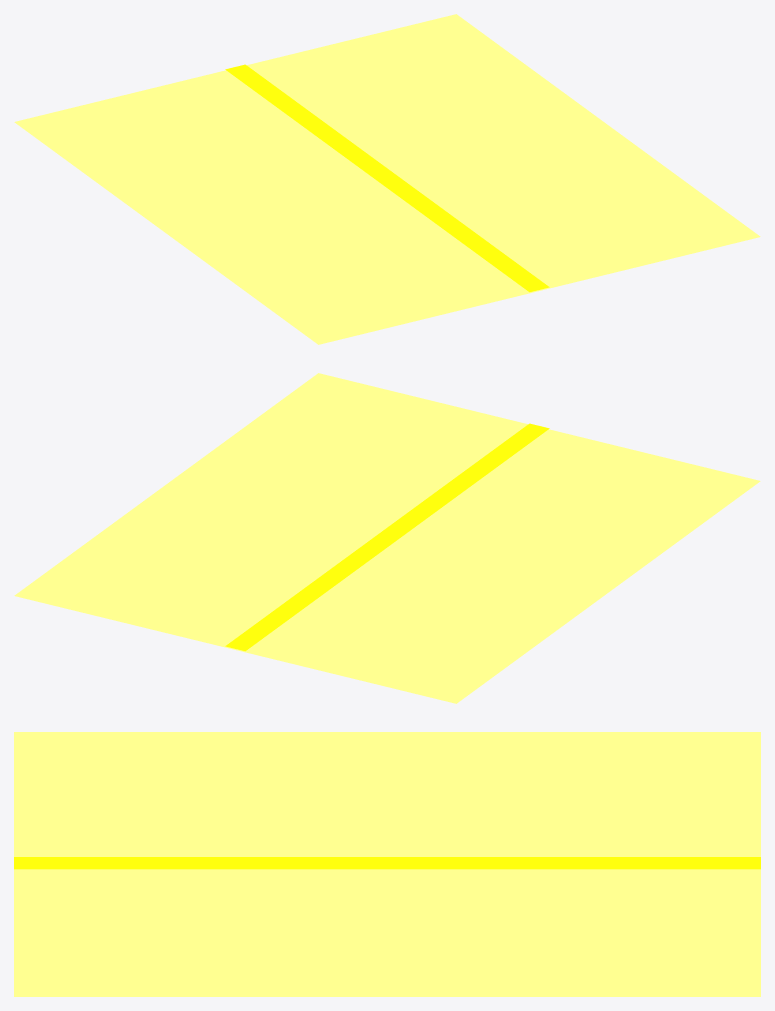
File: CeilingTileLight.fbx
3 views of the same model, one above another, from view 1: azimuth 30°, elevation 25°; view 2: azimuth 150°, elevation 25°; view 3: azimuth 270°, elevation 25° (orthographic). The views are drawn at different scales.
Parts seen in each view (by area): view 1: Plane.003; view 2: Plane.003; view 3: Plane.003.
Part boxes in pixels (<box>): Plane.003: <box>14,14,760,344</box>; Plane.003: <box>14,373,760,703</box>; Plane.003: <box>14,732,760,996</box>.
Bounding box in the file's own units: 437 × 1.02 × 521.
